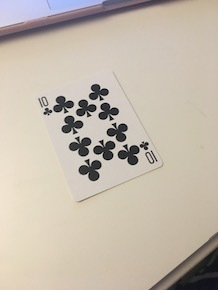TenOfClubs: (32, 67, 169, 206)
